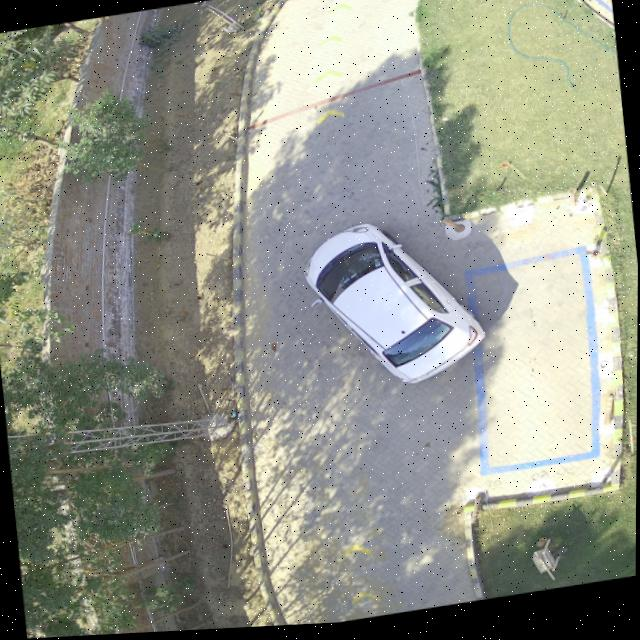car: (301, 225, 486, 386)
